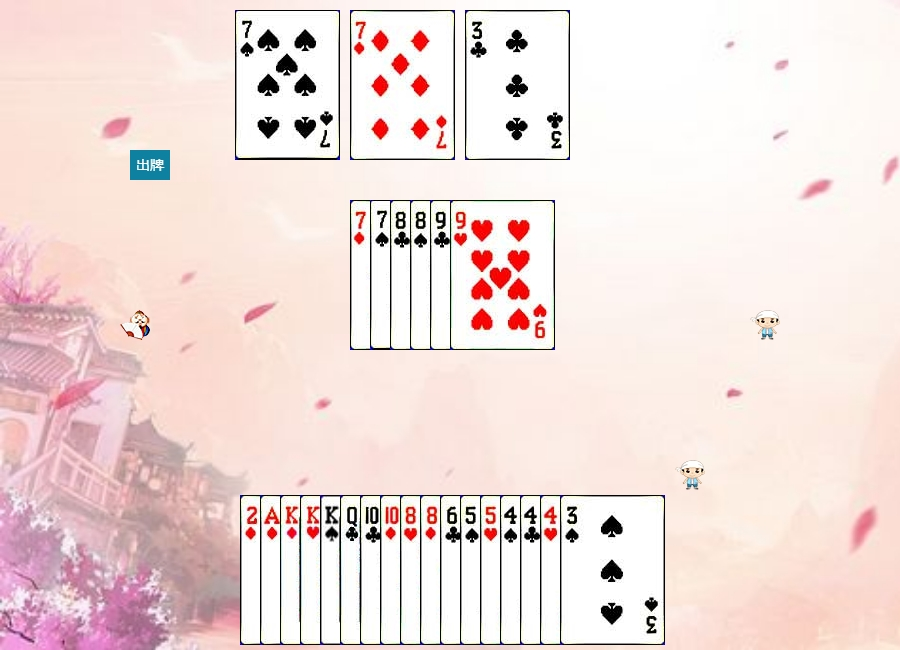10~1: (380, 495, 485, 645)
10~2: (360, 495, 465, 645)
12~2: (340, 495, 445, 645)
13~1: (280, 495, 385, 645)
13~3: (300, 495, 405, 645)
13~4: (320, 495, 425, 645)
14~1: (260, 495, 365, 645)
15~1: (240, 495, 345, 645)
3~2: (465, 10, 570, 160)
3~4: (560, 495, 665, 645)
4~2: (520, 495, 625, 645)
4~3: (540, 495, 645, 645)
4~4: (500, 495, 605, 645)
5~3: (480, 495, 585, 645)
5~4: (460, 495, 565, 645)
6~2: (440, 495, 545, 645)
7~1: (350, 10, 455, 160), (350, 200, 455, 350)
7~4: (235, 10, 340, 160), (370, 200, 475, 350)
8~1: (420, 495, 525, 645)
8~2: (390, 200, 495, 350)
8~3: (400, 495, 505, 645)
8~4: (410, 200, 515, 350)
9~2: (430, 200, 535, 350)
9~3: (450, 200, 555, 350)
